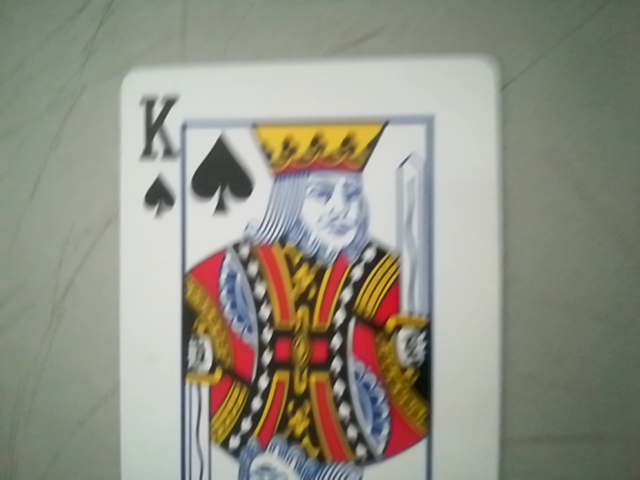ht k: (125, 85, 193, 230)
